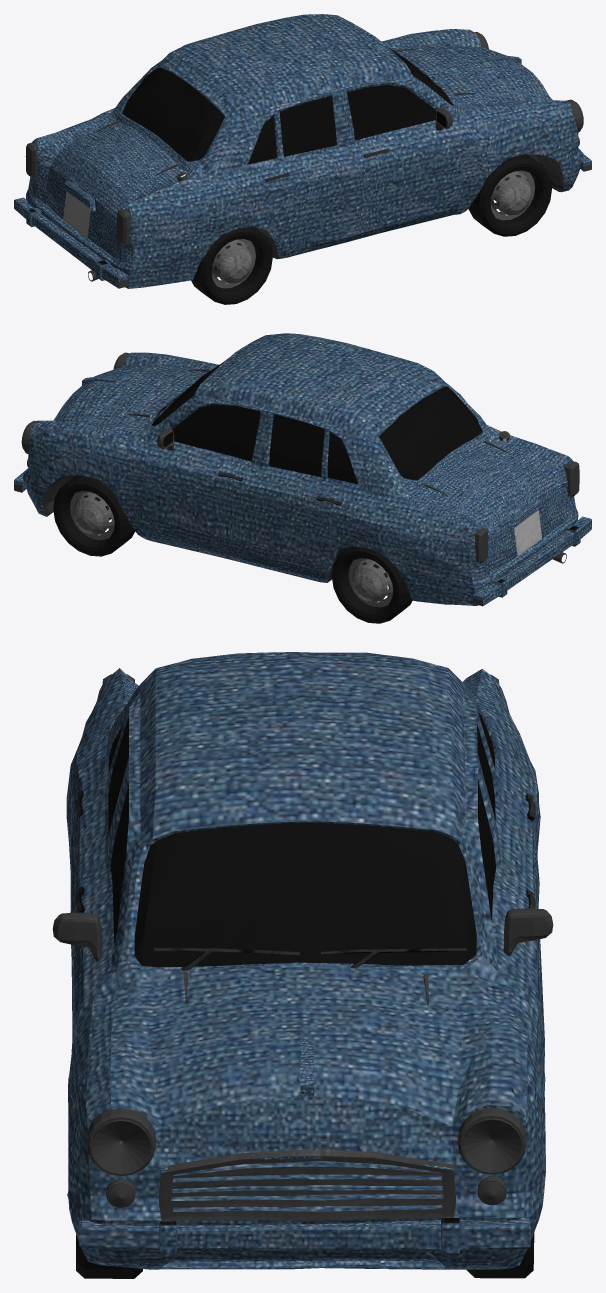
File: ambassador_car_hs.glb
3 renders of one model, top to bottom at view 1: azimuth 30°, elevation 25°; view 2: azimuth 150°, elevation 25°; view 3: azimuth 270°, elevation 25°, orthographic. The views are drawn at different scales.
Bounding box in the file's own units: 4.41 × 1.71 × 2.01.
2 materials, 2 textured.
